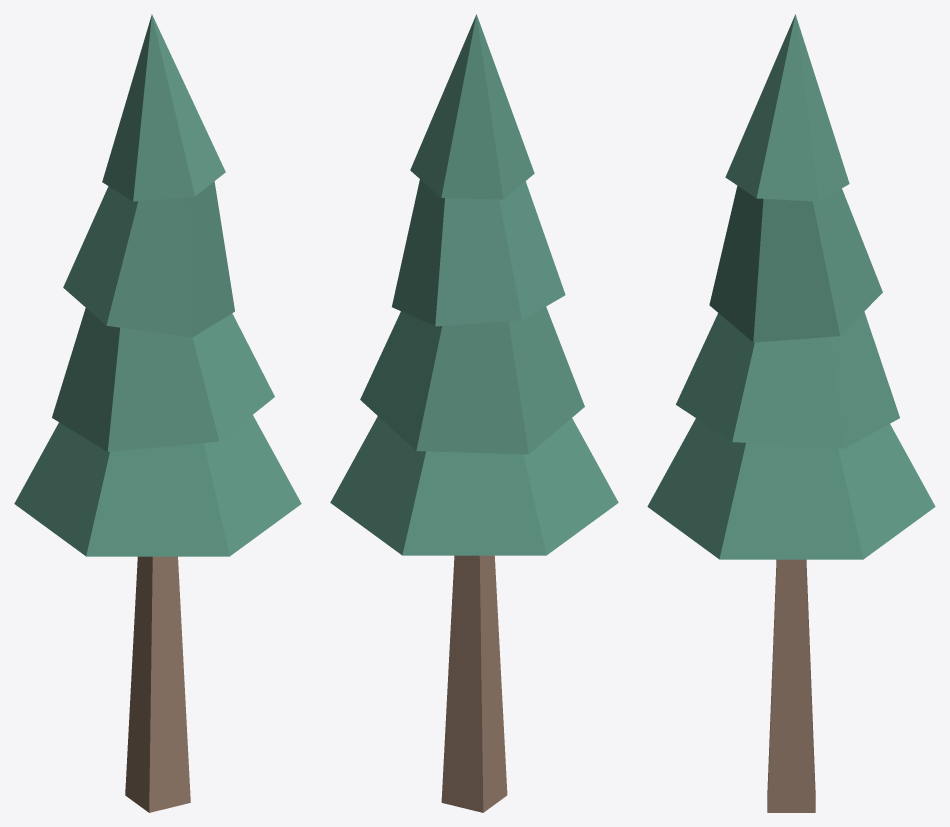
The model's file is nature_tree_pineTallC.glb.
3 views of the same model, side by side, from view 1: azimuth 30°, elevation 25°; view 2: azimuth 150°, elevation 25°; view 3: azimuth 270°, elevation 25° (orthographic).
Parts seen in each view (by area): view 1: tree_pineTallC; view 2: tree_pineTallC; view 3: tree_pineTallC.
Boxes of the visible parts, bbox=[...] form: tree_pineTallC: bbox=[14, 14, 301, 812]; tree_pineTallC: bbox=[330, 14, 618, 812]; tree_pineTallC: bbox=[647, 14, 935, 812].
Bounding box in the file's own units: 0.4804 × 1.67 × 0.5547.
